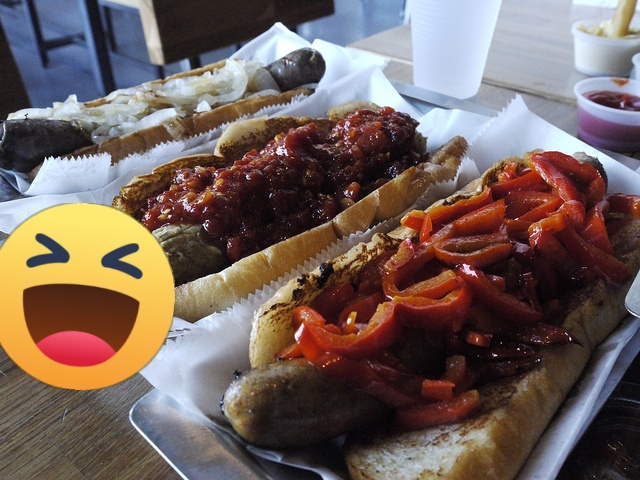haha: (0, 203, 175, 390)
